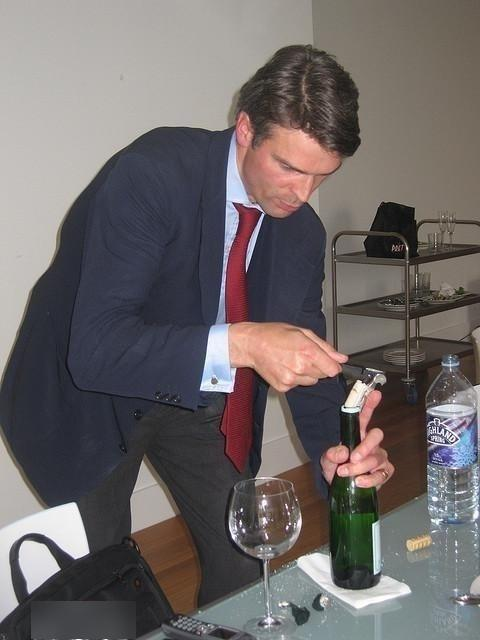bottle-glass: (325, 393, 382, 592)
bottle-plastic: (426, 353, 478, 525)
glass-wine: (227, 477, 302, 639)
